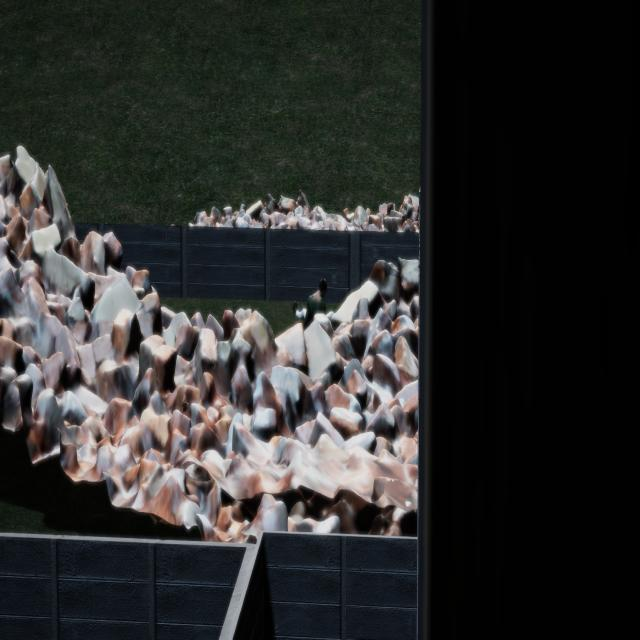Human: (290, 267, 336, 341)
